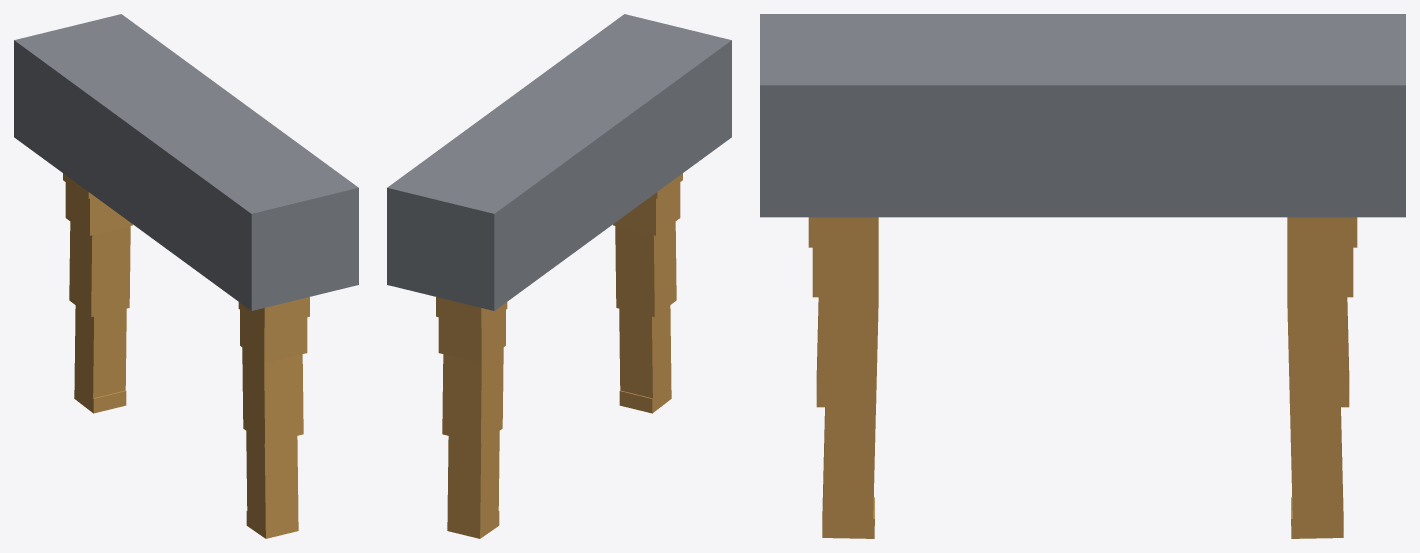
The model's file is gripper.glb.
The picture shows the model from 3 angles, left to right: view 1: azimuth 30°, elevation 25°; view 2: azimuth 150°, elevation 25°; view 3: azimuth 270°, elevation 25°; orthographic projection. The views are drawn at different scales.
Visible parts, largest first — view 1: palm, finger_right, finger_left; view 2: palm, finger_left, finger_right; view 3: palm, finger_left, finger_right.
Part boxes in pixels (left/top/right/bottom): palm: left=14, top=14, right=358, bottom=310; finger_right: left=238, top=297, right=309, bottom=538; finger_left: left=63, top=173, right=132, bottom=413; palm: left=387, top=14, right=731, bottom=310; finger_left: left=436, top=297, right=507, bottom=538; finger_right: left=613, top=173, right=682, bottom=413; palm: left=760, top=14, right=1405, bottom=217; finger_left: left=1287, top=217, right=1357, bottom=538; finger_right: left=808, top=217, right=878, bottom=538.
Size of the model in its own units: 0.0347 by 0.1086 by 0.1328.
